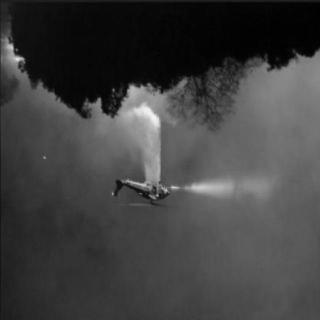Fire: (115, 89, 161, 132), (10, 36, 36, 90)
